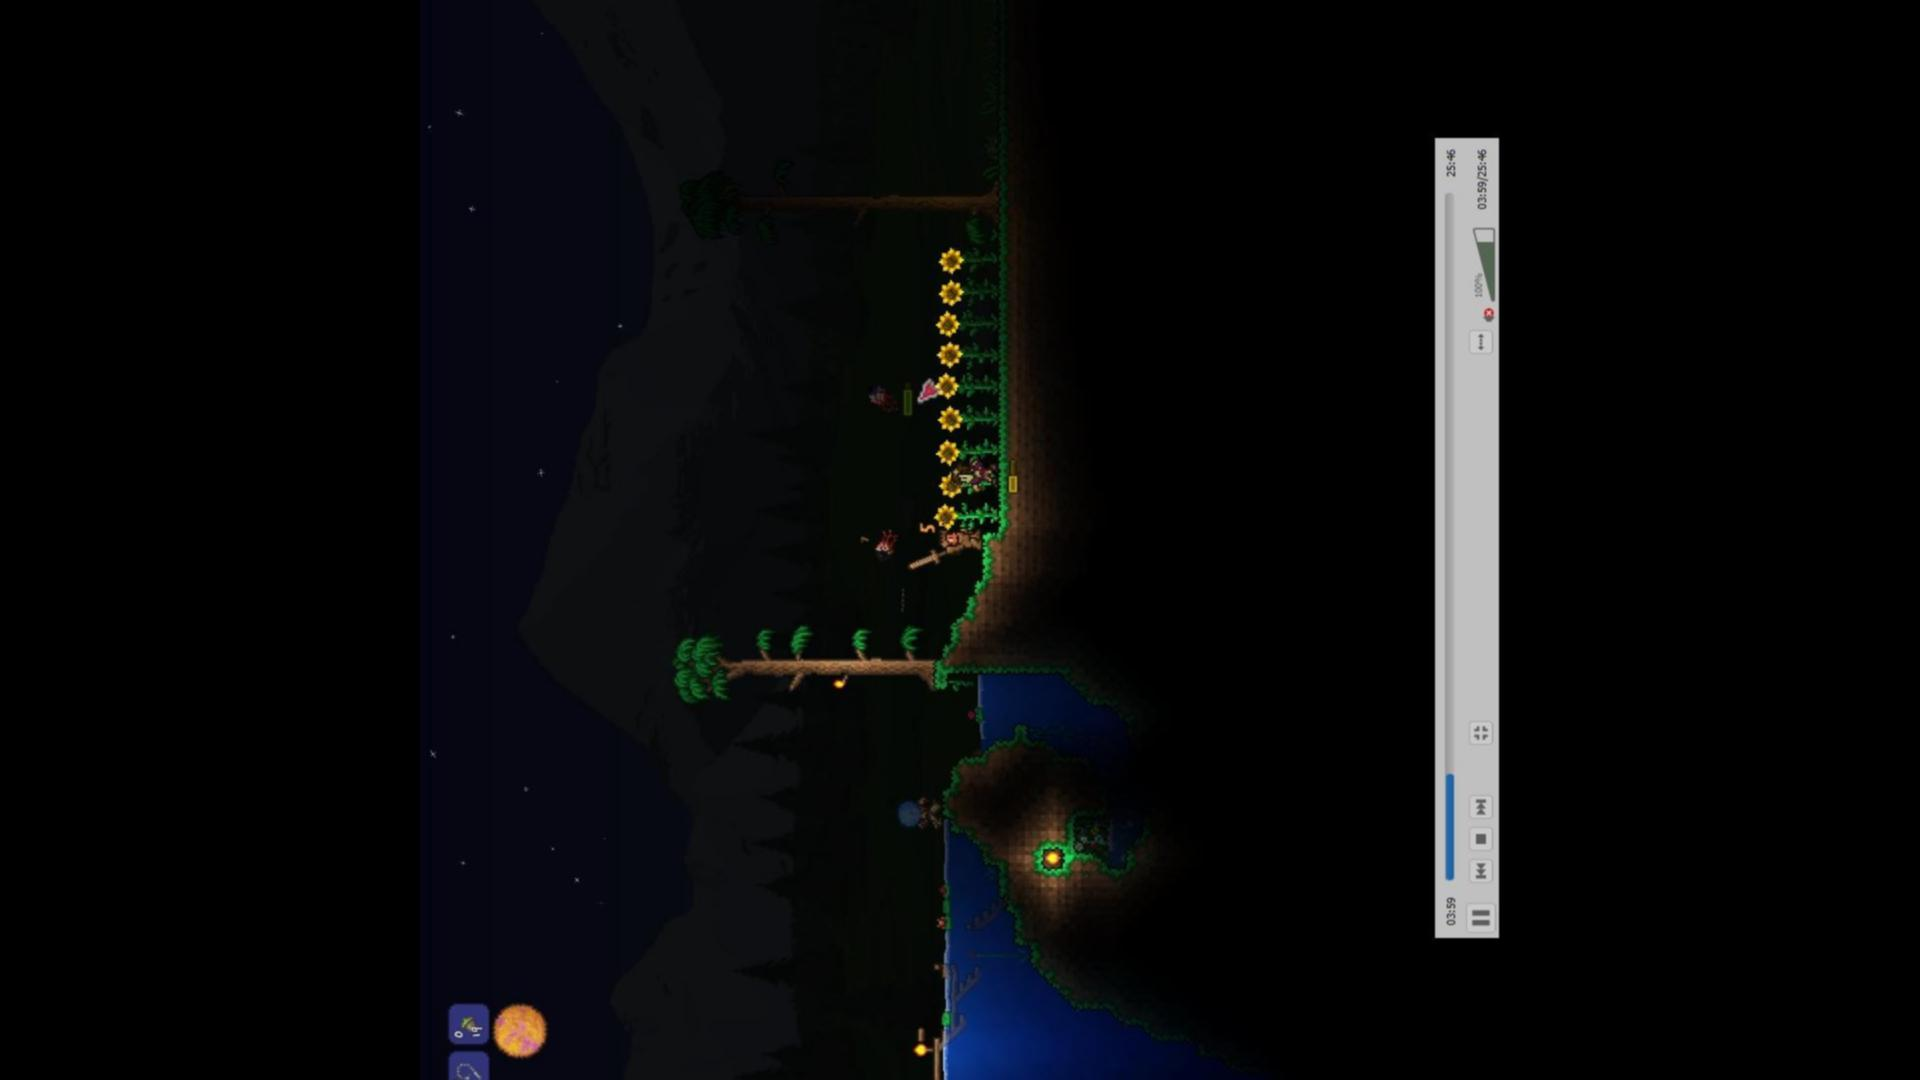eye: (861, 377, 895, 422), (868, 520, 902, 562)
